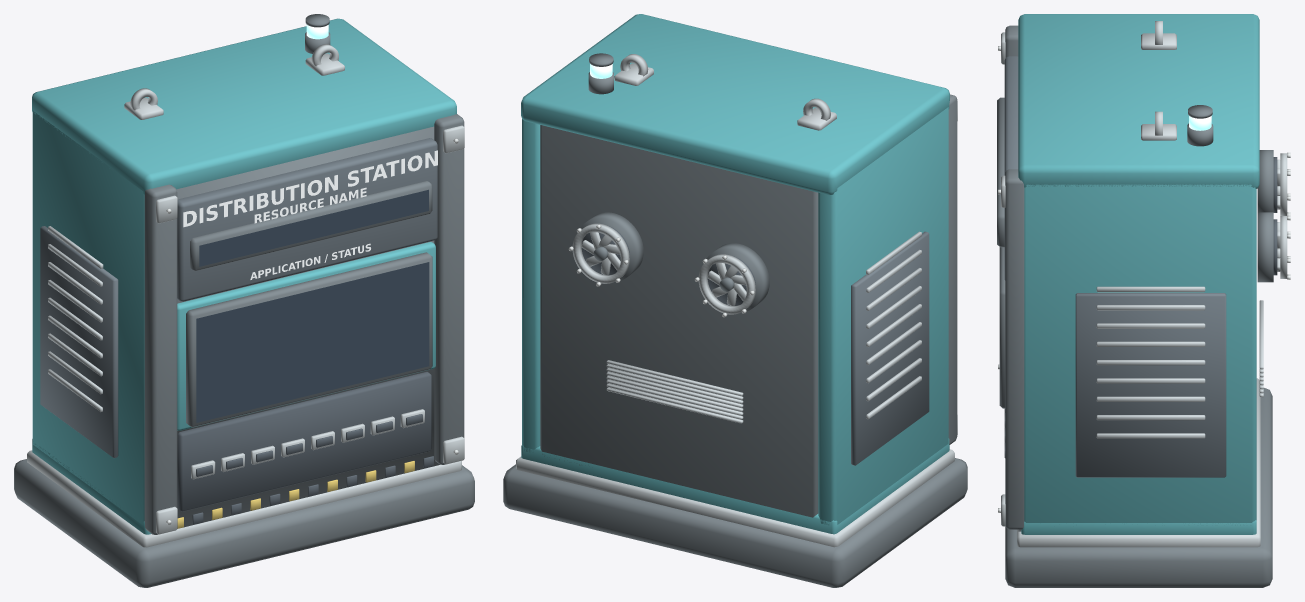
File: distribution_station_ultra.glb
3 renders of one model, left to right at view 1: azimuth 30°, elevation 25°; view 2: azimuth 150°, elevation 25°; view 3: azimuth 270°, elevation 25°, orthographic. The views are drawn at different scales.
Parts seen in each view (by area): view 1: Roof_teal, LiveViewSurface_glass, SideWall_teal, CornerPost_frame, Skid_frame, PatchPanel_black, FrontHeader_graphite, SideServicePanel_graphite, SealFront_frame, SkidDeck_steel, LiveViewSurfaceFrame_frame, ResourceNameSurface_glass (+14 smaller); view 2: BackWall_frame, Roof_teal, SideWall_teal, Skid_frame, SideServicePanel_graphite, SkidDeck_steel, KickPlate_teal, RearFan_steel, RearVent_steel, CornerPost_frame, SideLouver_steel, RearFan_frame (+3 smaller); view 3: SideWall_teal, Roof_teal, SideServicePanel_graphite, Skid_frame, CornerPost_frame, SideLouver_steel, SkidDeck_steel, KickPlate_teal, RearFan_frame, FrontHeader_graphite, RearFan_steel, LiveViewSurfaceFrame_frame (+7 smaller).
Boxes of the visible parts, <box> form: Roof_teal: <box>32,18,456,194</box>; LiveViewSurface_glass: <box>196,262,429,422</box>; SideWall_teal: <box>32,111,144,524</box>; CornerPost_frame: <box>144,114,464,534</box>; Skid_frame: <box>14,459,474,587</box>; PatchPanel_black: <box>177,372,431,511</box>; FrontHeader_graphite: <box>177,138,437,301</box>; SideServicePanel_graphite: <box>40,226,118,457</box>; SealFront_frame: <box>176,126,439,527</box>; SkidDeck_steel: <box>27,450,461,547</box>; LiveViewSurfaceFrame_frame: <box>186,252,432,427</box>; ResourceNameSurface_glass: <box>199,189,428,266</box>; BackWall_frame: <box>540,125,818,517</box>; Roof_teal: <box>521,14,949,195</box>; SideWall_teal: <box>522,107,948,525</box>; Skid_frame: <box>503,458,967,587</box>; SideServicePanel_graphite: <box>851,231,929,465</box>; SkidDeck_steel: <box>516,449,954,547</box>; KickPlate_teal: <box>521,438,949,534</box>; RearFan_steel: <box>572,223,755,314</box>; RearVent_steel: <box>606,360,743,423</box>; CornerPost_frame: <box>948,94,957,444</box>; SideLouver_steel: <box>866,231,921,419</box>; RearFan_frame: <box>580,212,769,312</box>; SideWall_teal: <box>1024,184,1256,525</box>; Roof_teal: <box>1018,14,1259,188</box>; SideServicePanel_graphite: <box>1075,293,1226,477</box>; Skid_frame: <box>1005,388,1272,587</box>; CornerPost_frame: <box>1005,25,1024,529</box>; SideLouver_steel: <box>1096,286,1205,438</box>; SkidDeck_steel: <box>1017,378,1260,547</box>; KickPlate_teal: <box>1021,520,1256,534</box>; RearFan_frame: <box>1257,150,1273,282</box>; FrontHeader_graphite: <box>1004,56,1018,280</box>; RearFan_steel: <box>1277,153,1287,278</box>; LiveViewSurfaceFrame_frame: <box>999,247,1005,408</box>.
Size of the model in its own units: 2 by 2.48 by 1.47.
